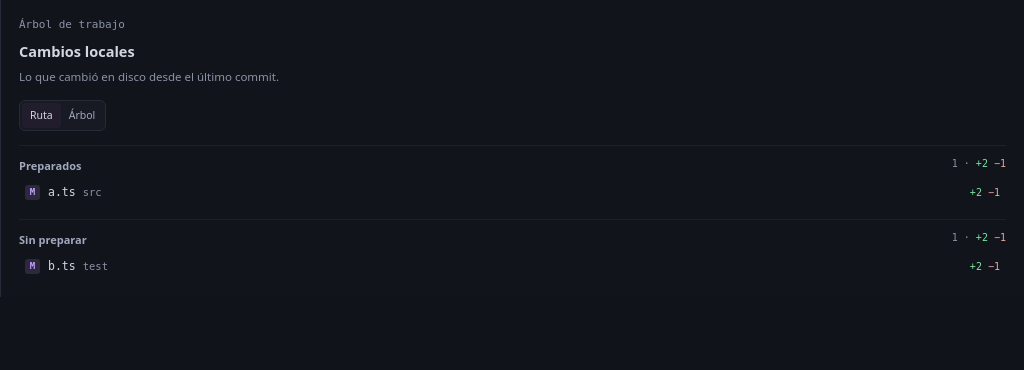
Test case: WorkingTreeDetailPanel › collapses and expands every directory from the shared control
Expected: the list named "Archivos preparados" is shown, [19,180,1006,205]
Click the button "Árbol" at (82,116), box [61,103,103,128]
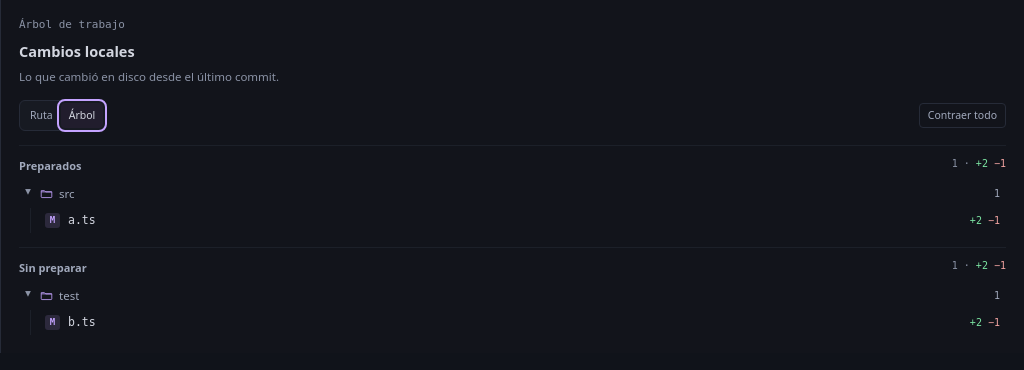
Click the button "Contraer todo" at (962,116), box [919,103,1006,128]
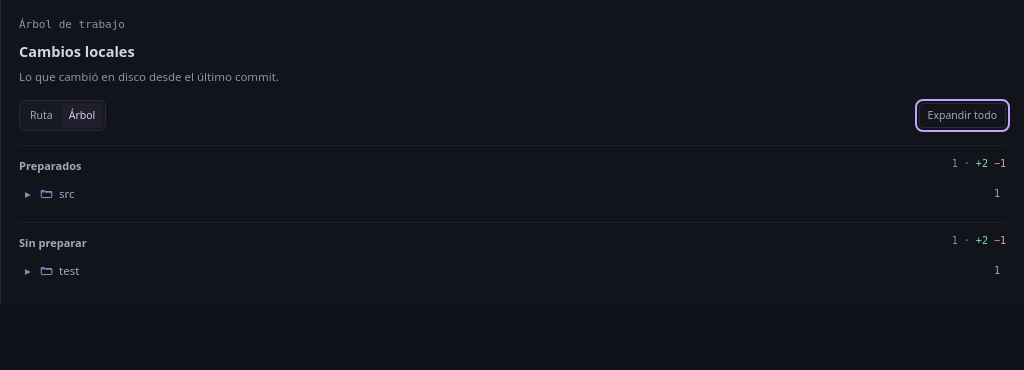
Result: the button with aria-label "src, 1 archivo modificado" is collapsed at [19,180,1006,208]
Click the button "Expandir todo" at (962,116), box [919,103,1006,128]
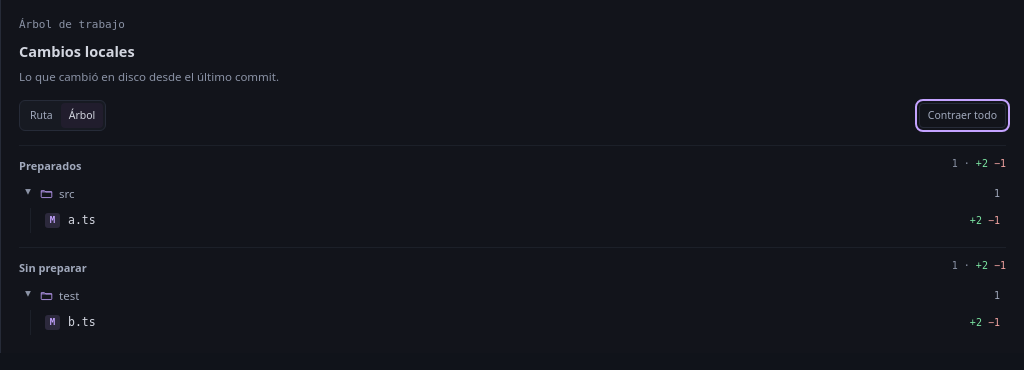
Result: the button with aria-label "test, 1 archivo modificado" is expanded at [19,282,1006,310]
